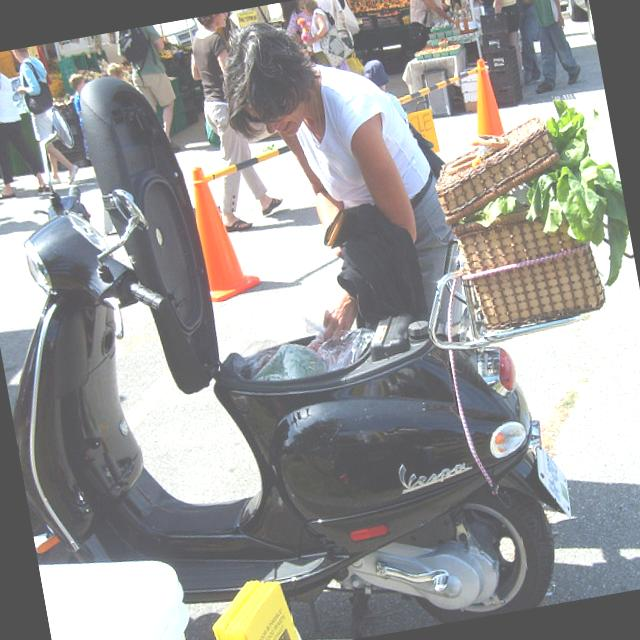Vehicle: (0, 0, 601, 640), (51, 18, 199, 76), (558, 0, 595, 44)
